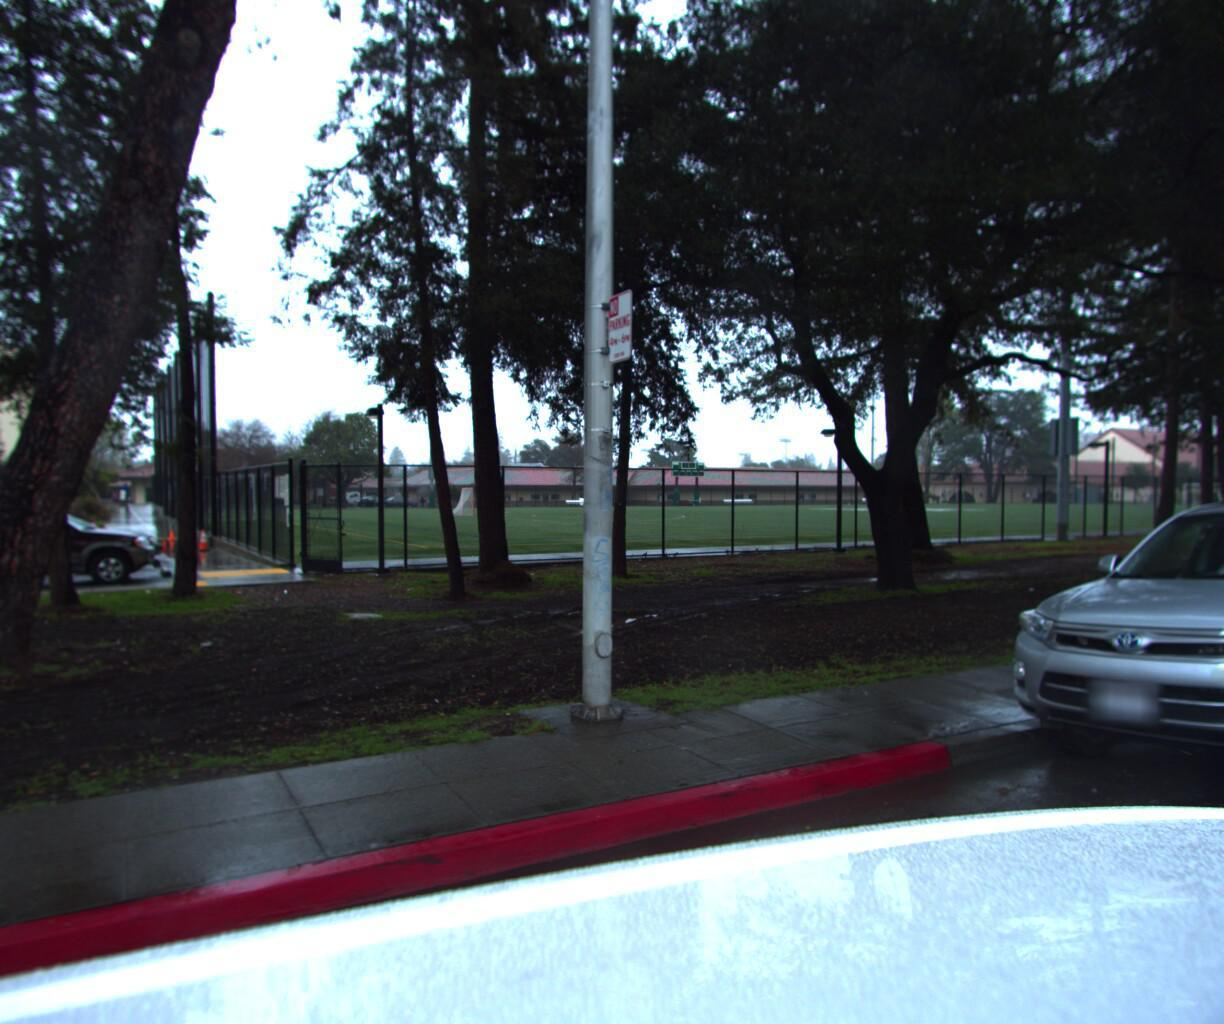car: (965, 451, 1224, 851)
